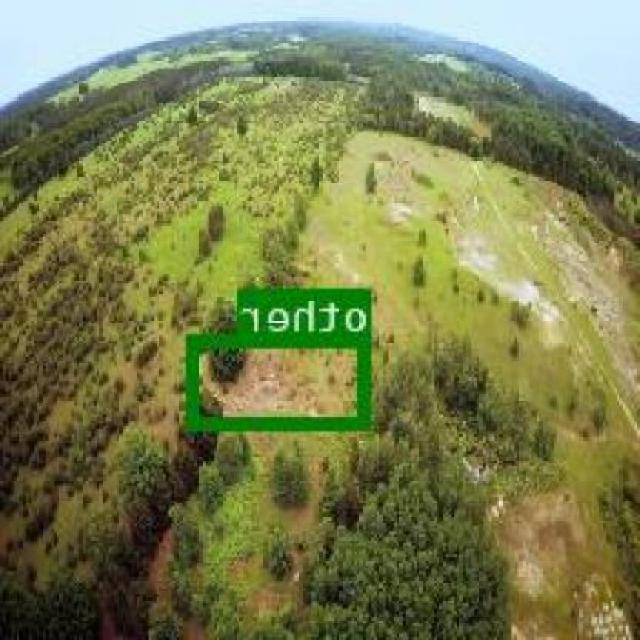other: (192, 333, 374, 429)
